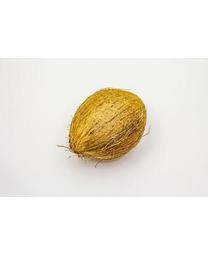coconut: (66, 88, 149, 163)
